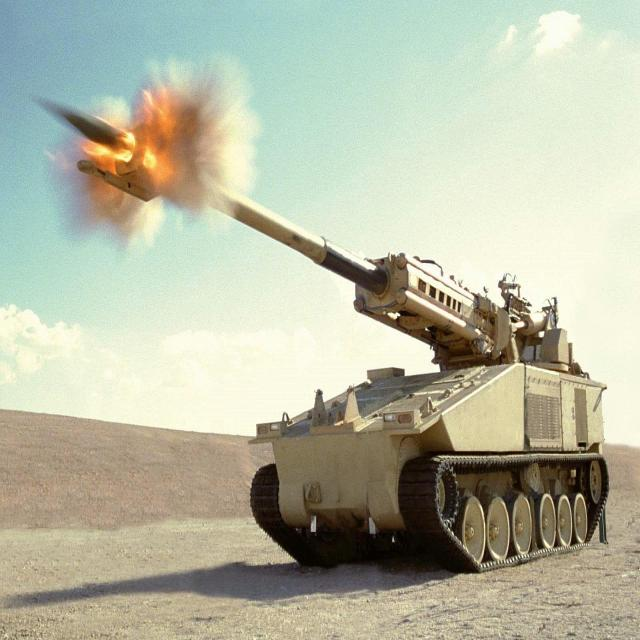Tanks: (60, 96, 574, 558)
